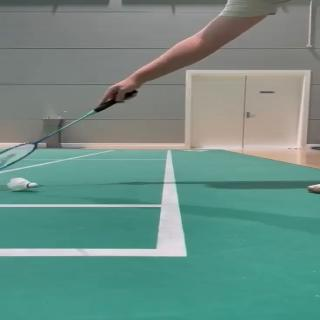Shuttle: (7, 177, 39, 191)
